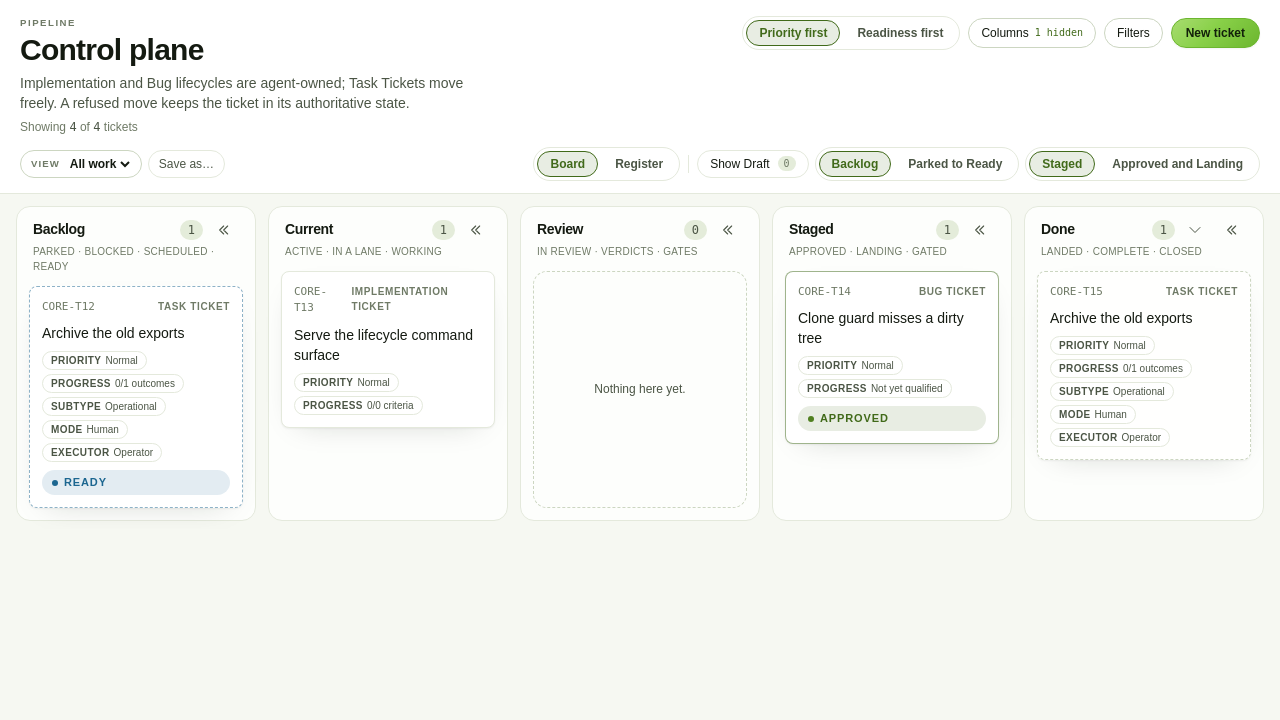
the board › hides a column from the Columns flyout, which removes it, unlike collapse
Step 1. Click the button with test id "columns-open" → point(1032, 33), box [968,18,1096,48]
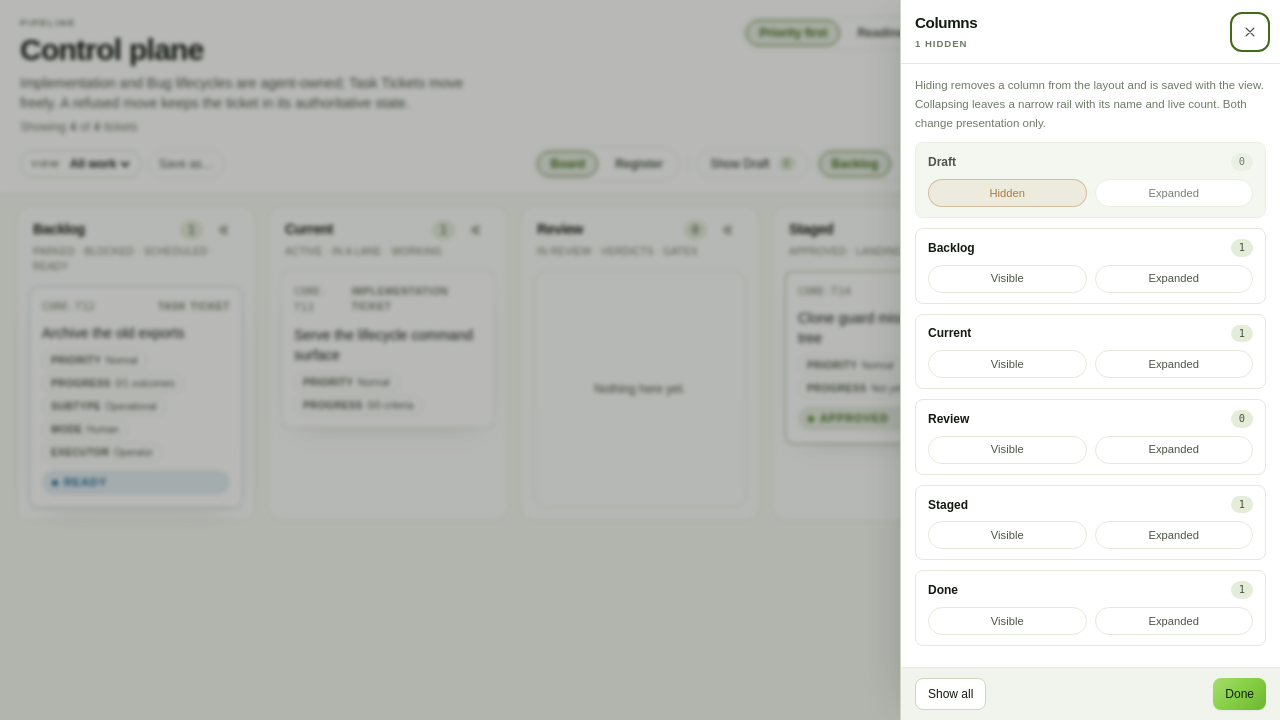
Now the button with test id "column-pref-hide-review" reads "Visible"
Now the button with test id "column-pref-collapse-review" reads "Expanded", box [1094,436,1253,464]
Step 2. Click the button with test id "column-pref-hide-review" → point(1007, 450), box [928,436,1086,464]
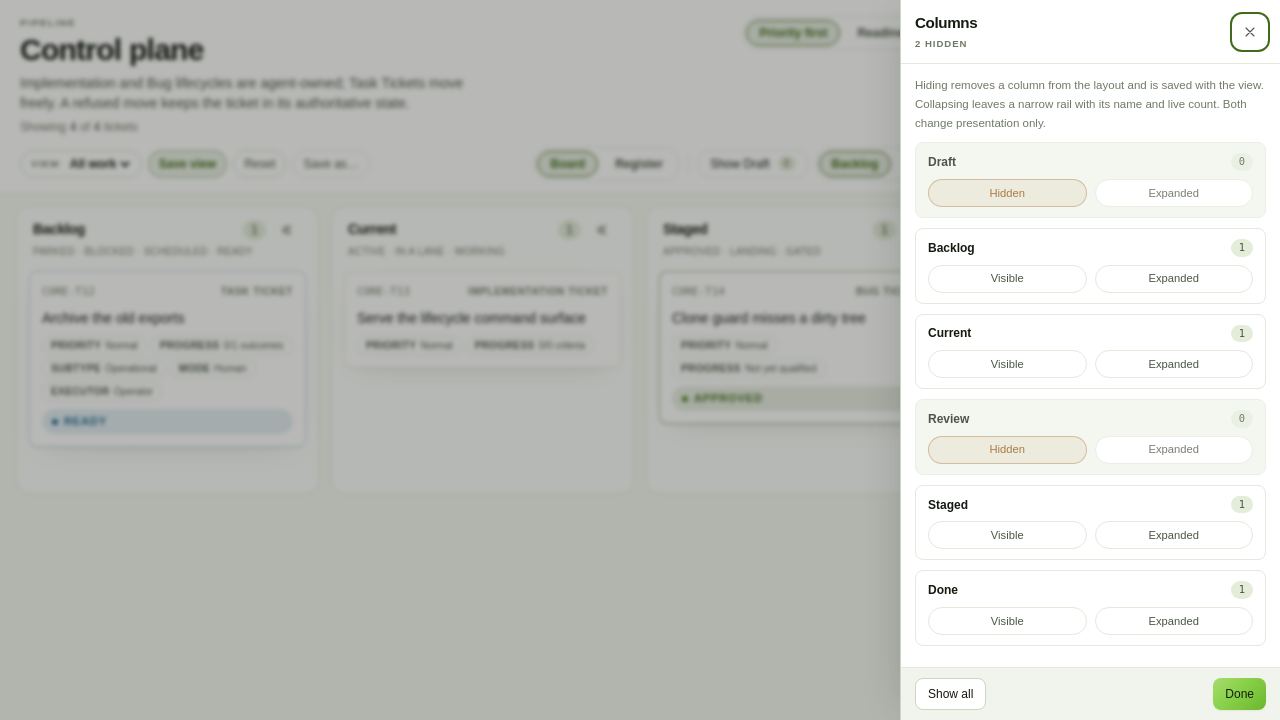
Now the button with test id "column-pref-hide-review" reads "Hidden", box [928,436,1086,464]
Now the element with test id "view-drift" is shown, box [148,150,286,178]
Step 3. Click the button with test id "column-pref-collapse-current" → point(1174, 364), box [1094,350,1253,378]
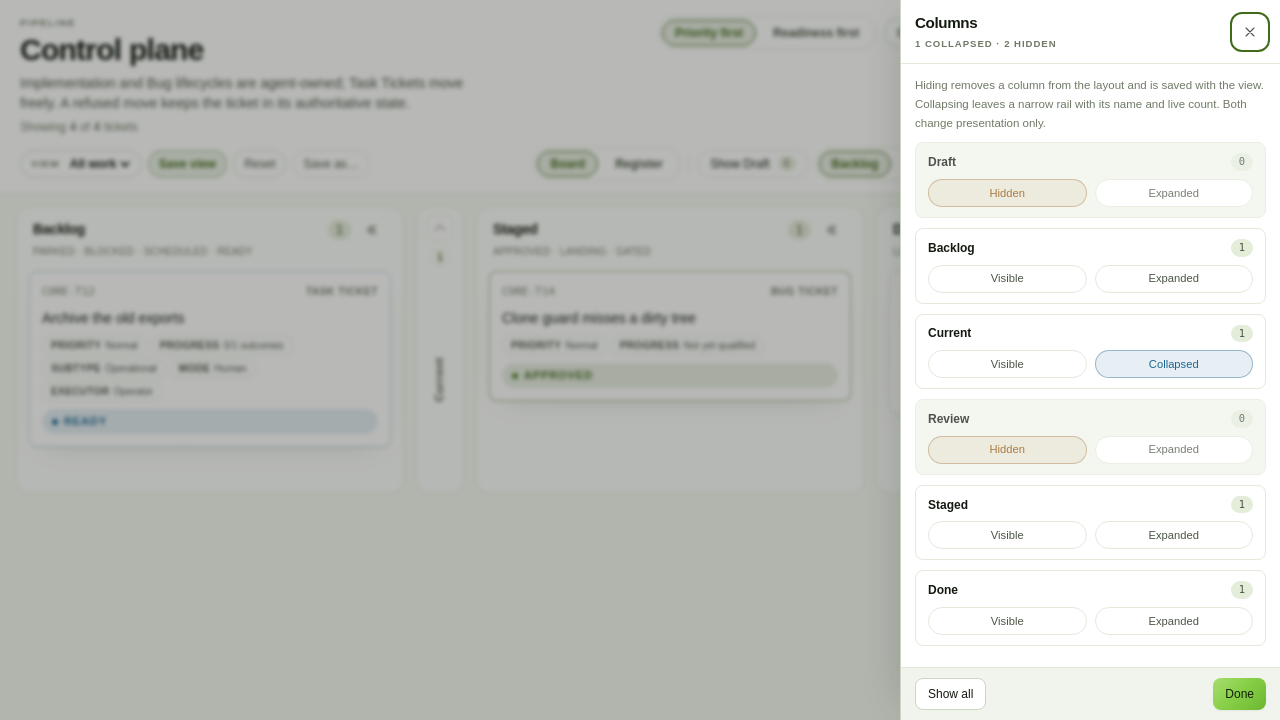
Now the button with test id "column-pref-collapse-current" reads "Collapsed", box [1094,350,1253,378]
Step 4. Click the button with test id "columns-show-all" → point(951, 694), box [915,678,986,710]
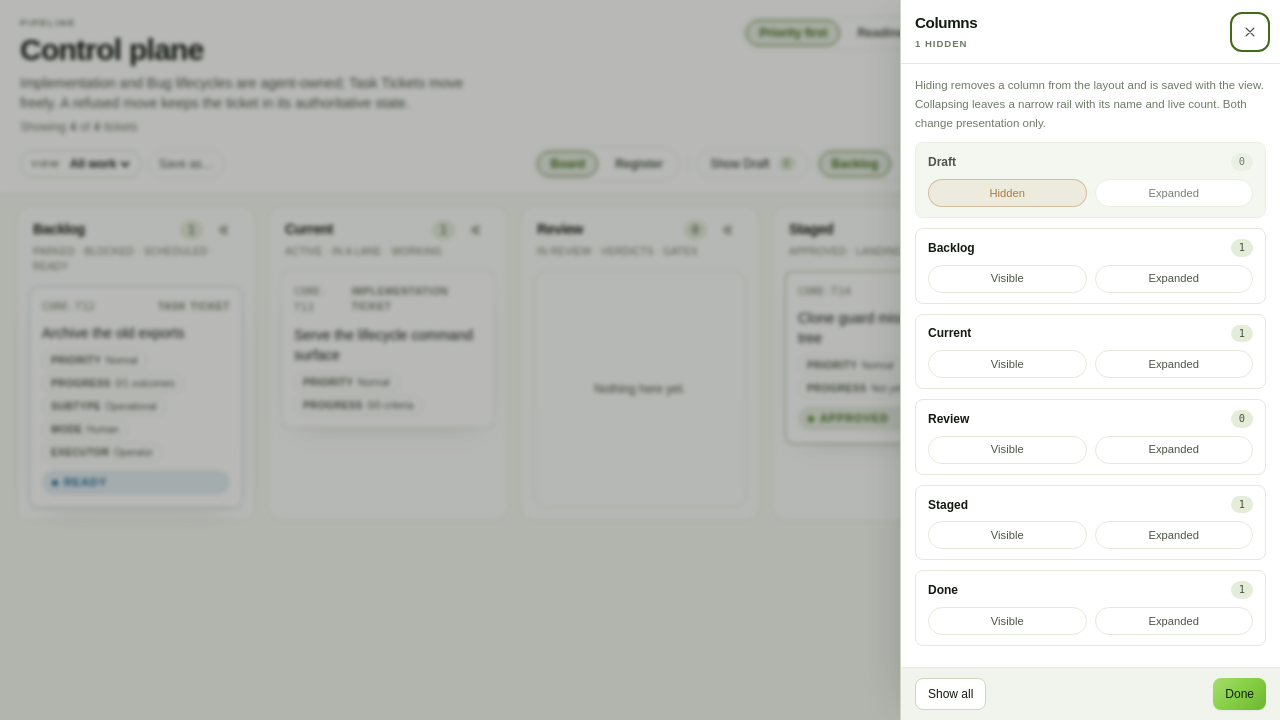
Now the element with test id "kanban-column-review" is shown, box [520,206,760,521]
Step 5. Click the button with test id "columns-close" → point(1250, 32), box [1234,16,1266,48]
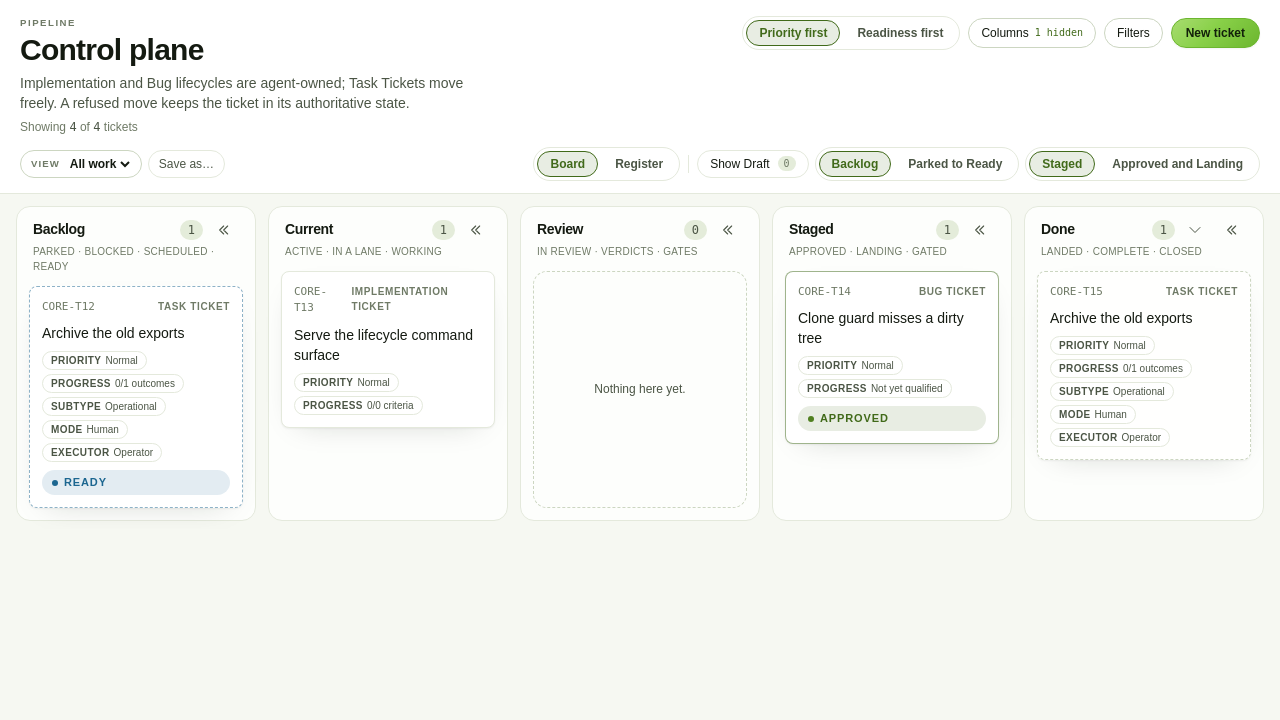
Now the dialog with test id "columns-flyout" is gone
